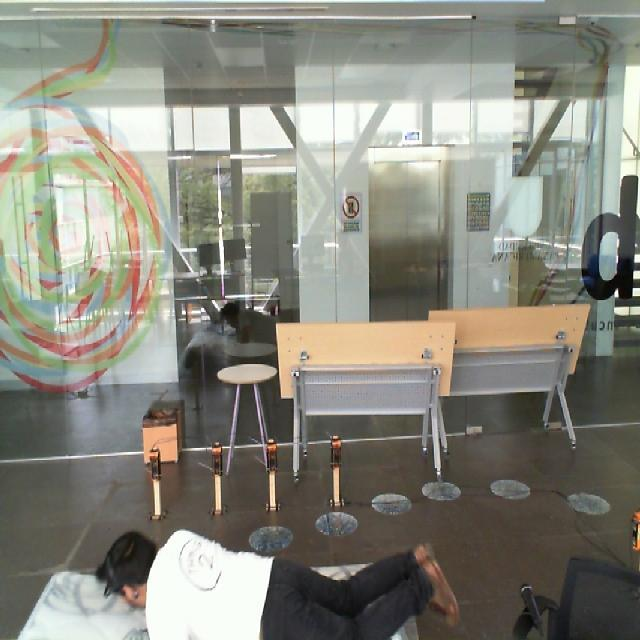fall: (90, 507, 466, 640)
